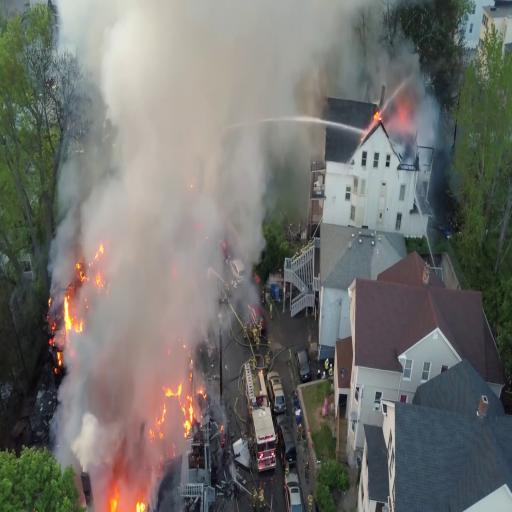smoke: (113, 416, 152, 504)
